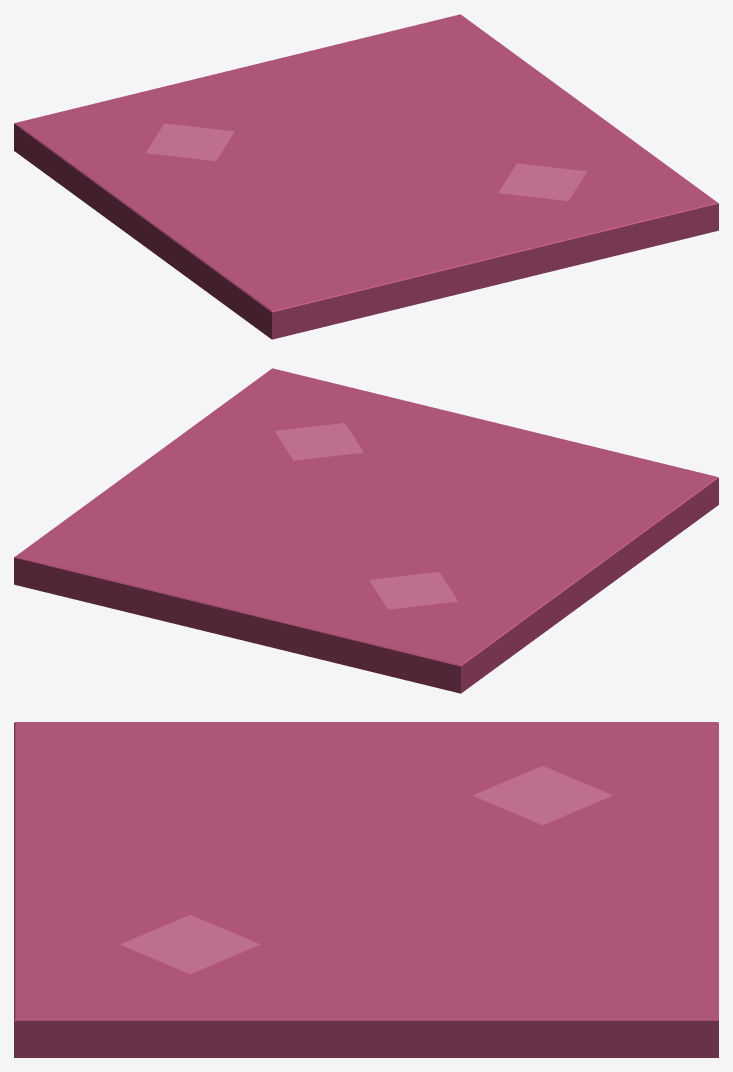
The model's file is boden_teppich_a.glb.
3 views of the same model, one above another, from view 1: azimuth 30°, elevation 25°; view 2: azimuth 150°, elevation 25°; view 3: azimuth 270°, elevation 25° (orthographic). The views are drawn at different scales.
Parts seen in each view (by area): view 1: boden_teppich_a; view 2: boden_teppich_a; view 3: boden_teppich_a.
Part boxes in pixels (x1,y1,x2,y2): boden_teppich_a: [14, 14, 718, 339]; boden_teppich_a: [14, 368, 718, 693]; boden_teppich_a: [14, 722, 718, 1057].
Bounding box in the file's own units: 1 × 0.0608 × 1.
